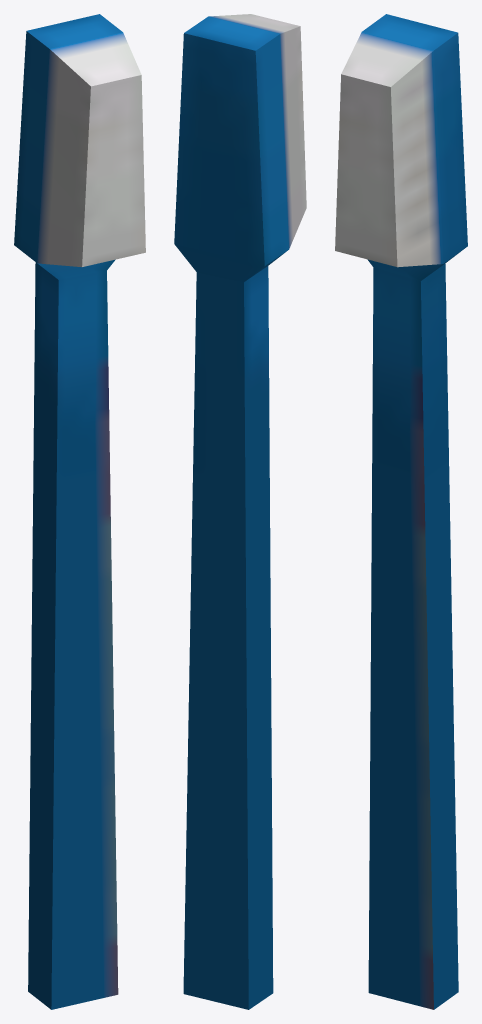
The model's file is cepilloDientes.fbx.
The picture shows the model from 3 angles, left to right: view 1: azimuth 30°, elevation 25°; view 2: azimuth 150°, elevation 25°; view 3: azimuth 330°, elevation 25°; orthographic projection.
Visible parts, largest first — view 1: s4studio_mesh_1; view 2: s4studio_mesh_1; view 3: s4studio_mesh_1.
Boxes of the visible parts, x1,y1,x2,y2 form: s4studio_mesh_1: (14,14,145,1009); s4studio_mesh_1: (174,14,306,1009); s4studio_mesh_1: (335,14,467,1009).
Size of the model in its own units: 1.91 by 19.08 by 2.08.
Materials: 1 (1 with a texture image).
